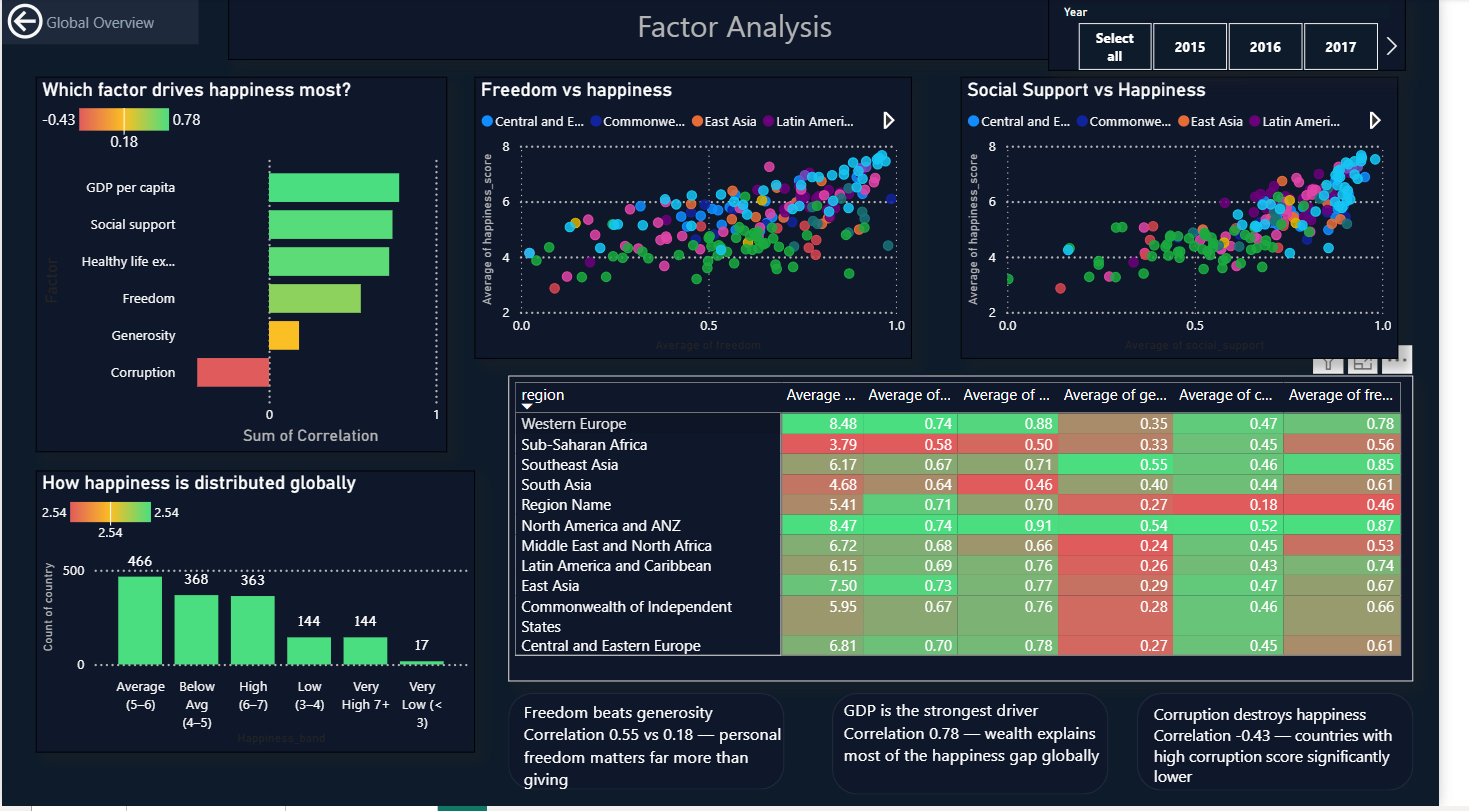

The dashboard page shown, as its layout file describes it:
{"tool":"powerbi","page":{"name":"Factor Analysis","canvas":[1280,720],"ordinal":2},"visuals":[{"type":"actionButton","box":[0,0,175,41.2],"z":0},{"type":"clusteredBarChart","title":"Which factor drives happiness most?","fields":{"Category":["FactorCorrelation.Factor"],"Y":["Sum(FactorCorrelation.Correlation)"]},"box":[30.2,70,366.8,334.2],"z":1000},{"type":"pivotTable","title":"Region vs happiness factors","fields":{"Rows":["world_happiness_cleaned.region"],"Values":["Avg(world_happiness_cleaned.gdp)","Avg(world_happiness_cleaned.health)","Avg(world_happiness_cleaned.social_support)","Avg(world_happiness_cleaned.generosity)","Avg(world_happiness_cleaned.corruption)","Avg(world_happiness_cleaned.freedom)"]},"box":[450.8,336.2,805.9,248.2],"z":2000},{"type":"scatterChart","title":"Freedom vs happiness","fields":{"X":["Avg(world_happiness_cleaned.freedom)"],"Y":["Avg(world_happiness_cleaned.happiness_score)"],"Category":["world_happiness_cleaned.country"],"Series":["world_happiness_cleaned.region"]},"box":[421,70,389.7,250.9],"z":3000},{"type":"scatterChart","title":"Social Support vs Happiness ","fields":{"Y":["Avg(world_happiness_cleaned.happiness_score)"],"Category":["world_happiness_cleaned.country"],"Series":["world_happiness_cleaned.region"],"X":["Avg(world_happiness_cleaned.social_support)"]},"box":[854.2,70,389.7,250.9],"z":4000},{"type":"clusteredColumnChart","title":"How happiness is distributed globally","fields":{"Category":["world_happiness_cleaned.Happiness_band"],"Y":["CountNonNull(world_happiness_cleaned.country)"]},"box":[30.2,421,390.9,250.9],"z":5000},{"type":"shape","box":[450.8,598.9,246,105.8],"z":6000},{"type":"shape","box":[730.2,596.7,246,110.2],"z":7000},{"type":"shape","box":[1010.8,598.9,246,106.9],"z":8000},{"type":"textbox","box":[733.2,605.7,240.3,98.1],"z":9000},{"type":"textbox","box":[451.2,605.7,245.2,99.3],"z":10000},{"type":"textbox","box":[1010.3,605.7,221.9,98.1],"z":11000},{"type":"textbox","box":[201.5,0,902.4,55.5],"z":12001},{"type":"slicer","title":"Year","fields":{"Values":["world_happiness_cleaned.year"]},"box":[932,0,318,65],"z":12002}]}

Visuals, with their boxes in screenshot pixels (x1, y1, x2, y2), scaled from the page's 1280x720 canvas onto the 1469x811 screenshot:
actionButton: 0, 0, 201, 46
"Which factor drives happiness most?" clusteredBarChart: 35, 79, 456, 455
"Region vs happiness factors" pivotTable: 517, 379, 1442, 658
"Freedom vs happiness" scatterChart: 483, 79, 930, 361
"Social Support vs Happiness " scatterChart: 980, 79, 1428, 361
"How happiness is distributed globally" clusteredColumnChart: 35, 474, 483, 757
shape: 517, 675, 800, 794
shape: 838, 672, 1120, 796
shape: 1160, 675, 1442, 795
textbox: 841, 682, 1117, 793
textbox: 518, 682, 799, 794
textbox: 1159, 682, 1414, 793
textbox: 231, 0, 1267, 63
"Year" slicer: 1070, 0, 1435, 73
